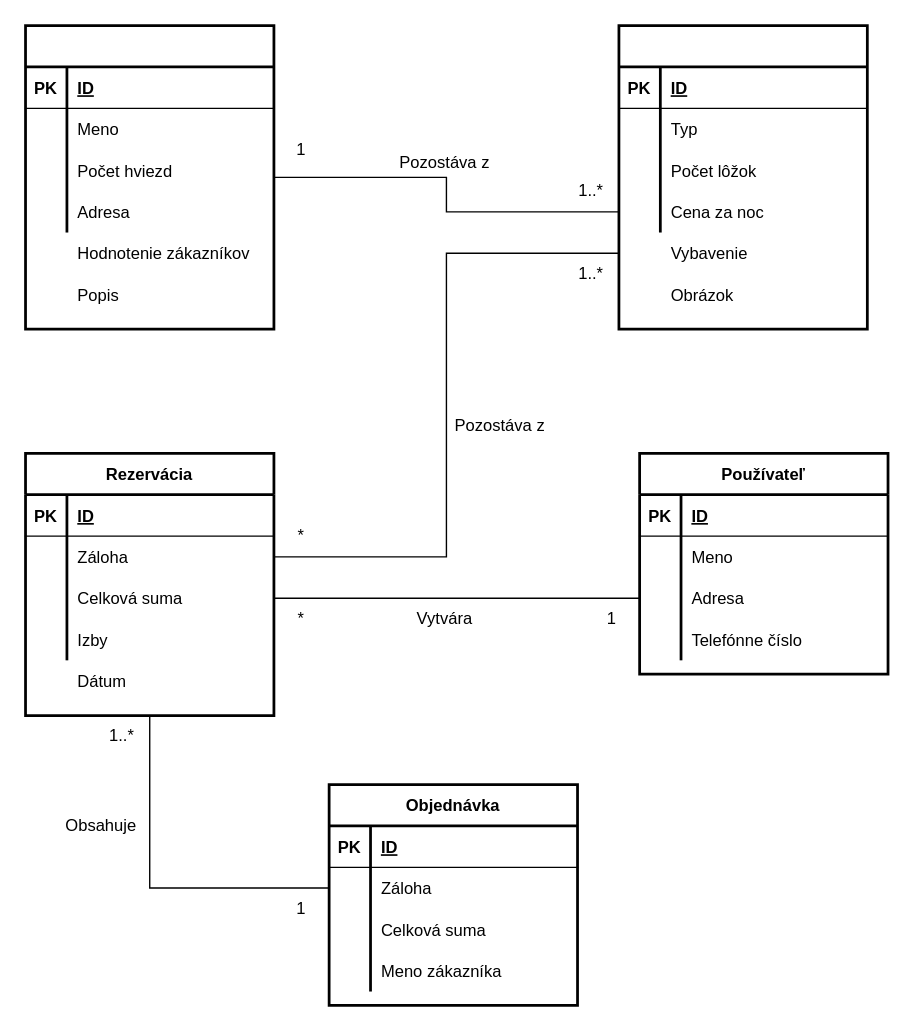
This 912x1029 diagram has some shape labels left out. The shapes that lost their labels are listed below. From the top down, each one's box as (x1, y1, x2, y2) in pixels, then its label:
(23, 23, 275, 330): Hotel
(617, 23, 868, 330): Izba
